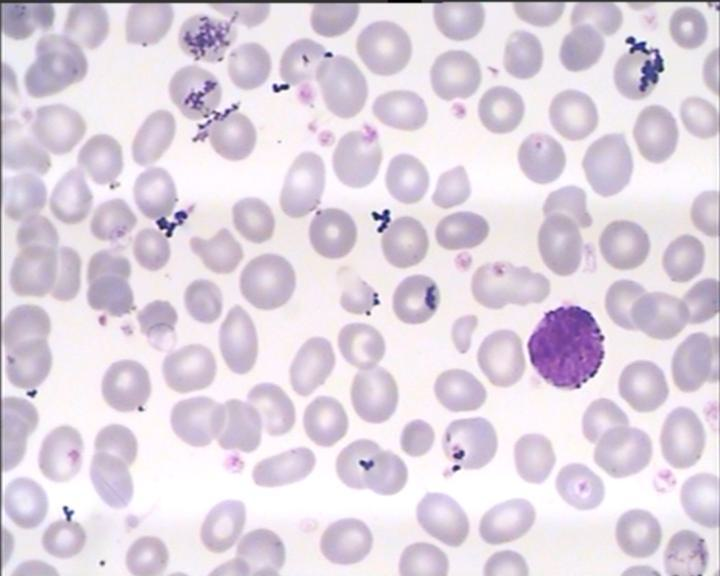baso: (523, 299, 606, 391)
